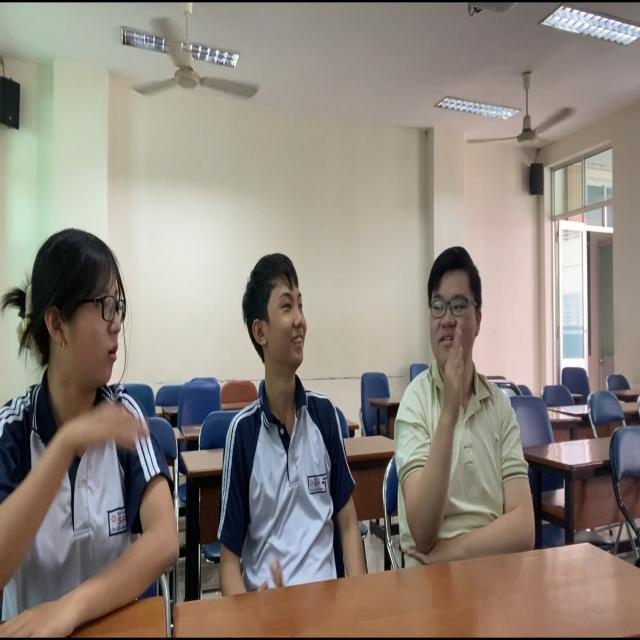raise_hand: (396, 240, 518, 562)
